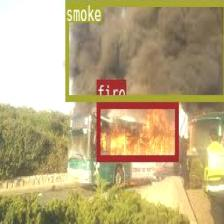fire: (97, 101, 178, 160)
smoke: (64, 0, 223, 100)
